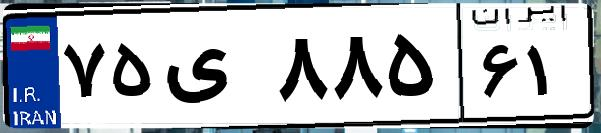1: (525, 38, 570, 115)
5: (385, 28, 445, 110), (110, 28, 158, 98)
6: (475, 38, 525, 113)
7: (57, 26, 110, 100)
8: (270, 28, 330, 110), (330, 28, 385, 110)
ی: (158, 20, 270, 120)
